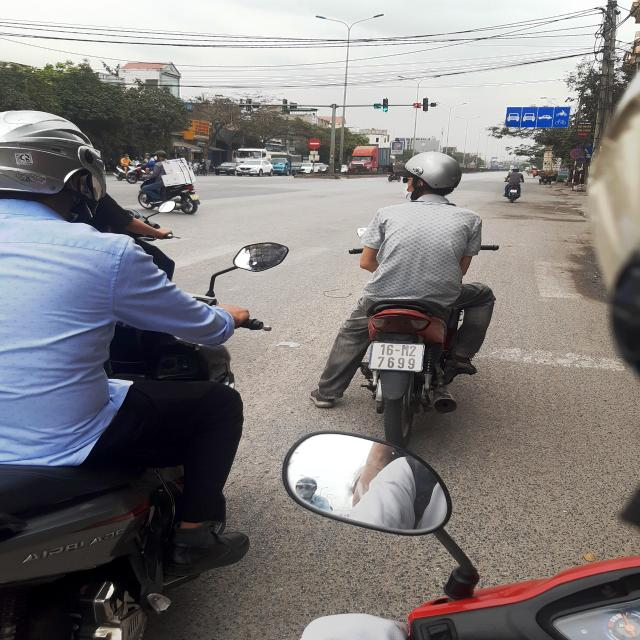license_plate: (370, 343, 425, 373)
